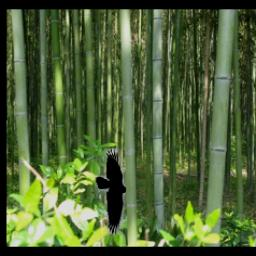Crow: (96, 149, 127, 236)
